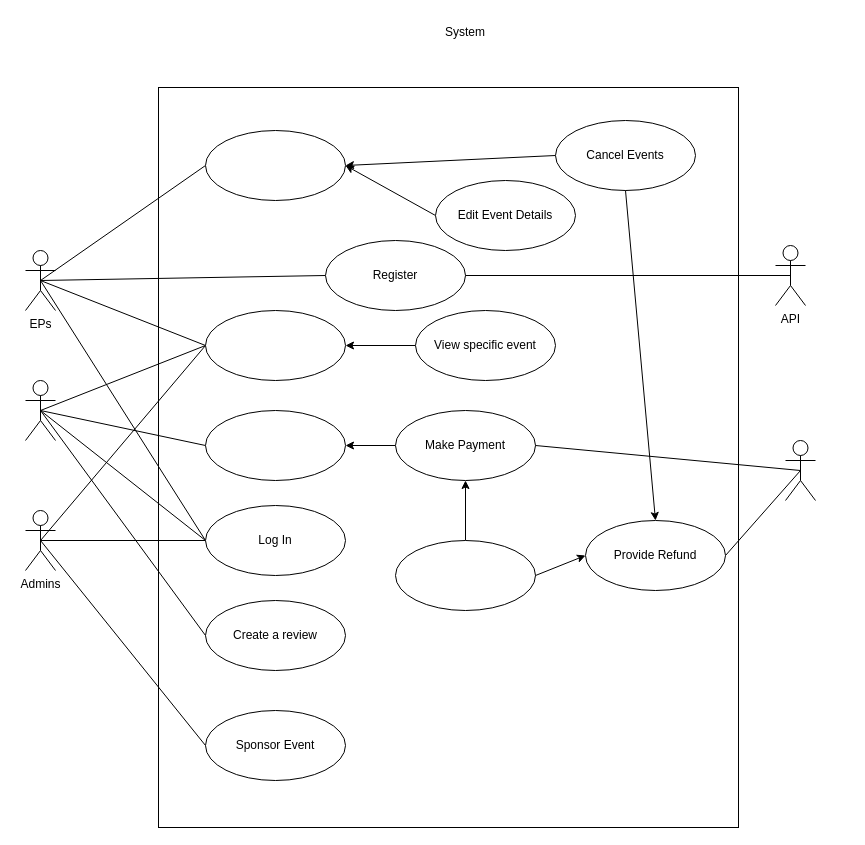
The diagram is 865 pixels wide and 845 high, and some of its shapes have lost their labels. Each missing label, with the centre of its shape:
"Cancel Booking" goes at [465,575].
"Create Events" goes at [275,165].
"External Payment System" goes at [800,470].
"Make Booking" goes at [275,445].
"Request to view all events for a day" goes at [275,345].
"Students" goes at [40,410].
